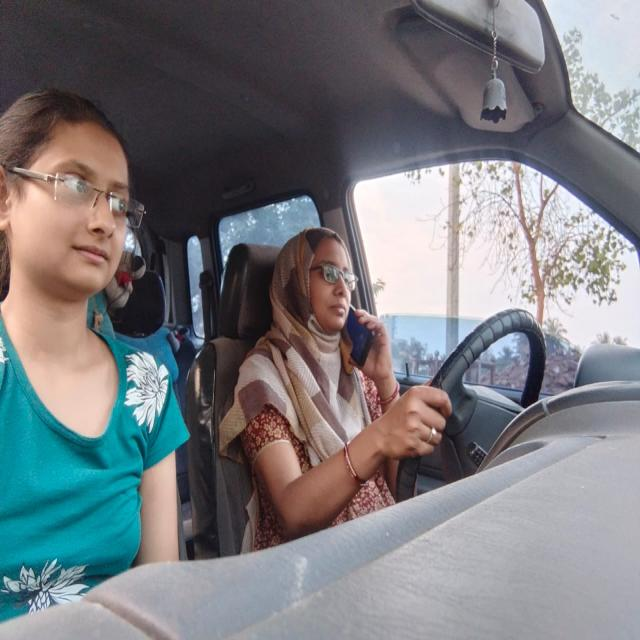mobile: (342, 310, 378, 380)
person: (1, 85, 144, 347), (267, 225, 355, 372)
